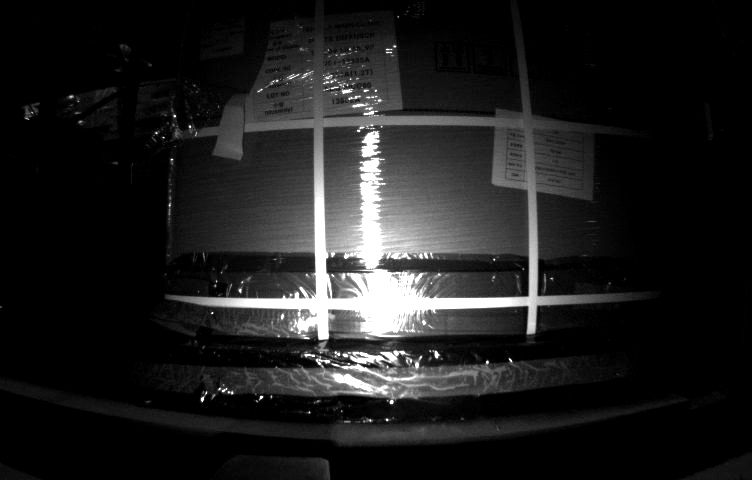True Barcode: (185, 13, 247, 54)
